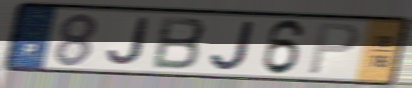6: (260, 18, 306, 77)
8: (54, 11, 100, 68)
B: (150, 15, 209, 72)
J: (209, 19, 257, 72), (105, 16, 151, 67)
P: (305, 22, 361, 77)
